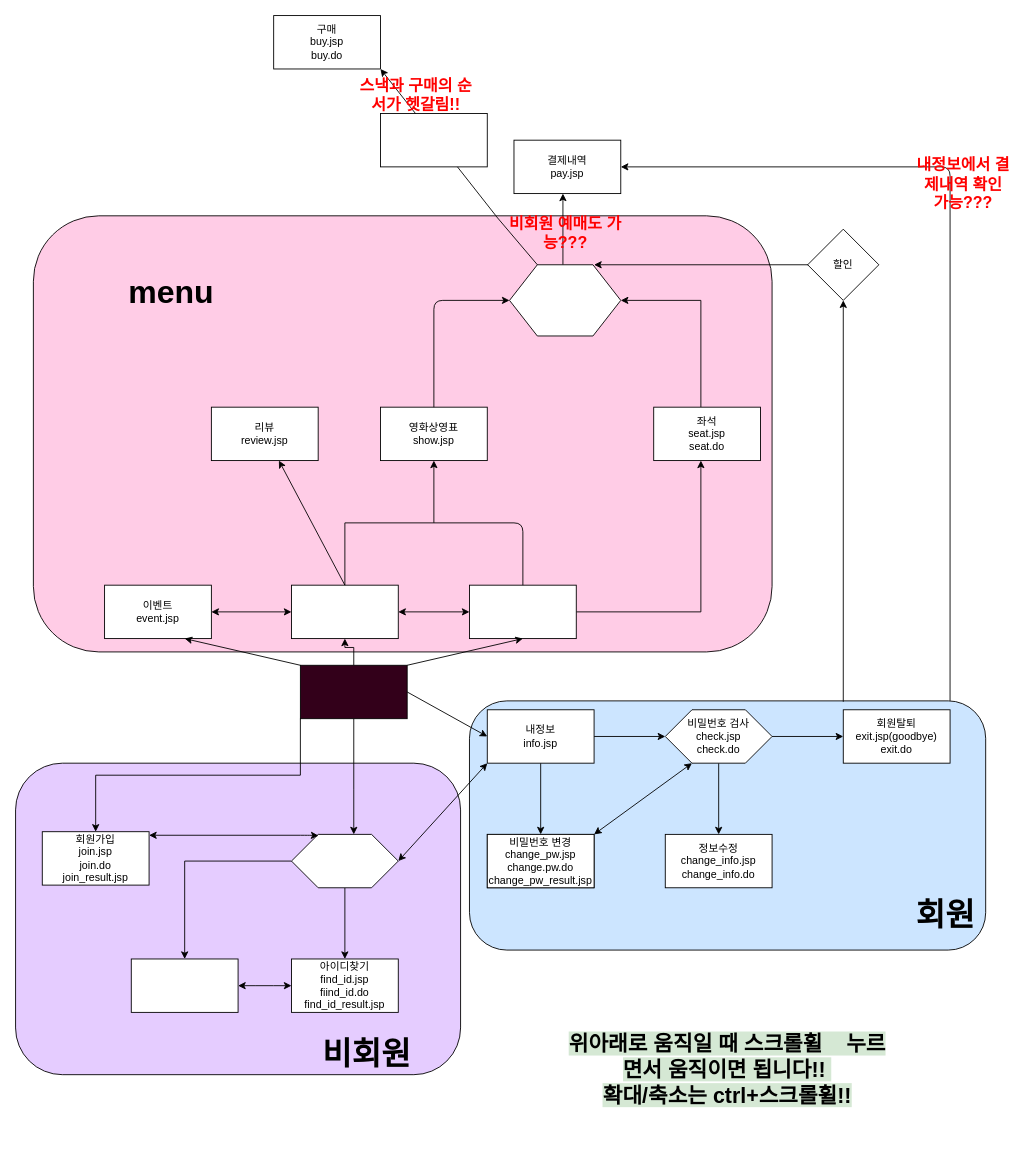
The diagram is 1028 pixels wide and 1153 high, and some of its shapes have lost their labels. The centre of each missing label's shape, as x and y in pixels:
"로그인 login.jsp login.do" belongs at [344,860].
"메인페이지 index.jsp" belongs at [353,691].
"비밀번호 찾기 find_pw.jsp find_pw.do find_pw_result.jsp" belongs at [184,985].
"상영관 theater.jsp" belongs at [522,611].
"스낵 snack.jsp" belongs at [433,140].
"영화 movie.jsp" belongs at [344,611].
"예매 reser.jsp reser.do reser_result.jsp" belongs at [565,300].
